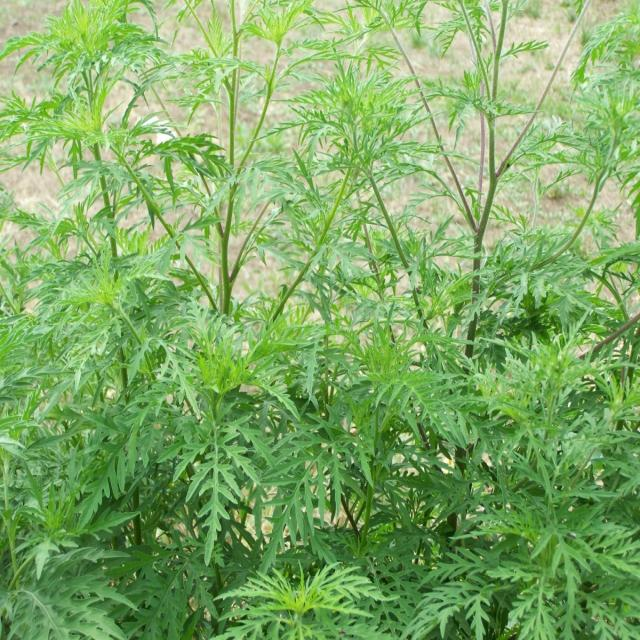ambrosia: (408, 0, 590, 571), (23, 16, 197, 577), (220, 41, 388, 558)
